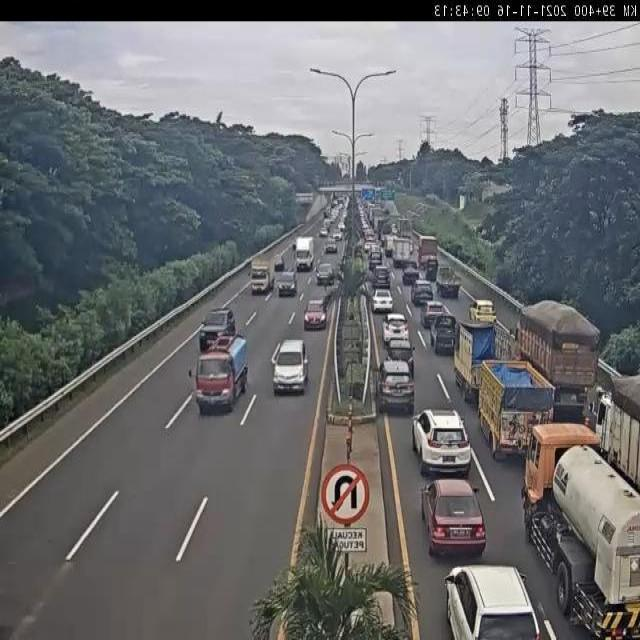Car: (443, 562, 544, 637), (421, 480, 486, 560), (411, 408, 471, 478), (376, 360, 416, 416), (272, 333, 304, 389), (199, 307, 237, 351), (303, 292, 330, 332), (382, 313, 410, 346), (422, 300, 448, 332), (356, 198, 375, 240), (411, 280, 434, 308), (371, 288, 393, 314), (276, 270, 298, 296), (316, 263, 335, 286), (402, 264, 420, 286), (374, 266, 390, 290), (325, 240, 338, 253), (339, 218, 347, 235), (332, 230, 342, 241), (320, 227, 328, 237)
Truck: (525, 429, 640, 638), (516, 301, 602, 424), (478, 361, 555, 462), (593, 376, 639, 507), (195, 329, 249, 422), (454, 322, 501, 404), (249, 258, 277, 300), (295, 231, 322, 273), (429, 314, 457, 354), (416, 234, 438, 275), (436, 266, 462, 299), (331, 199, 340, 216), (338, 195, 348, 209), (331, 194, 338, 206)
